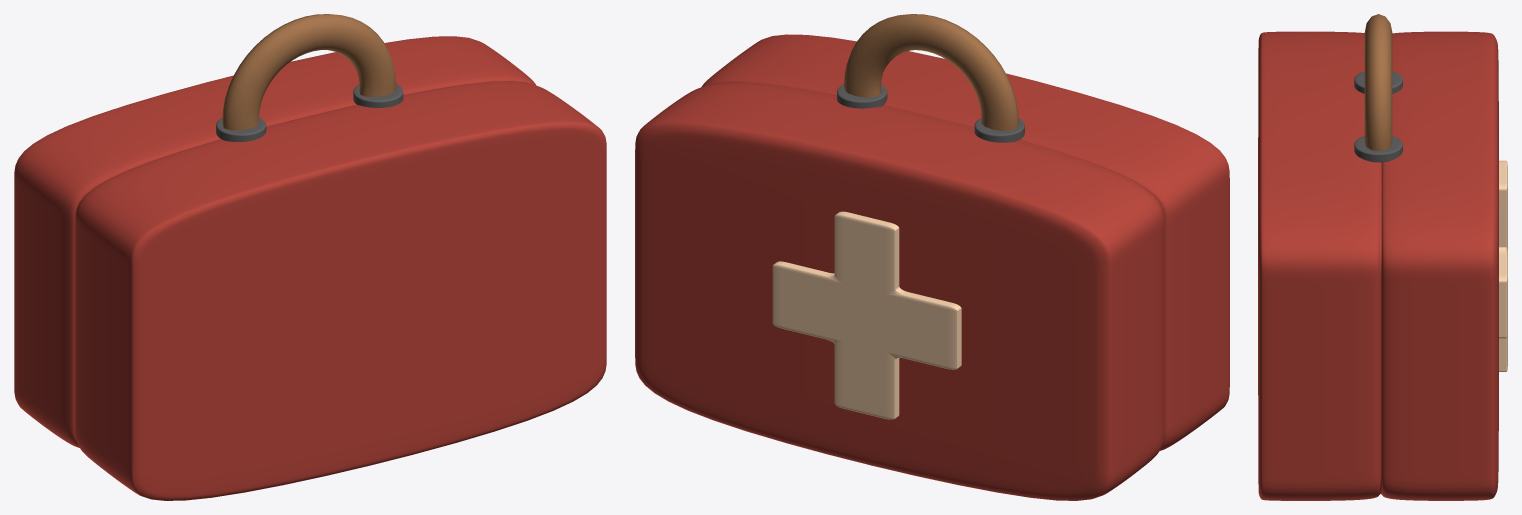
File: first_aid.glb
3 views of the same model, side by side, from view 1: azimuth 30°, elevation 25°; view 2: azimuth 150°, elevation 25°; view 3: azimuth 270°, elevation 25° (orthographic). The views are drawn at different scales.
Parts seen in each view (by area): view 1: Object_2, Object_3, Object_4, Object_5; view 2: Object_2, Object_6, Object_3, Object_4, Object_5; view 3: Object_2, Object_3, Object_6, Object_5, Object_4.
Boxes of the visible parts, x1,y1,x2,y2 form: Object_2: (14,36,606,500); Object_3: (222,14,396,130); Object_4: (216,117,266,141); Object_5: (353,84,403,107); Object_2: (635,34,1229,500); Object_6: (772,211,961,419); Object_3: (844,14,1018,130); Object_4: (974,118,1024,142); Object_5: (837,84,887,108); Object_2: (1258,31,1498,500); Object_3: (1364,14,1392,151); Object_6: (1499,160,1507,371); Object_5: (1354,136,1402,162); Object_4: (1354,71,1402,93).
Size of the model in its own units: 2.7 by 2.2 by 1.26.
